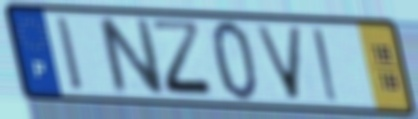0: (209, 18, 261, 104)
I: (53, 13, 88, 94), (309, 25, 342, 105)
N: (93, 16, 168, 98)
V: (251, 23, 306, 102)
Z: (147, 17, 219, 101)
